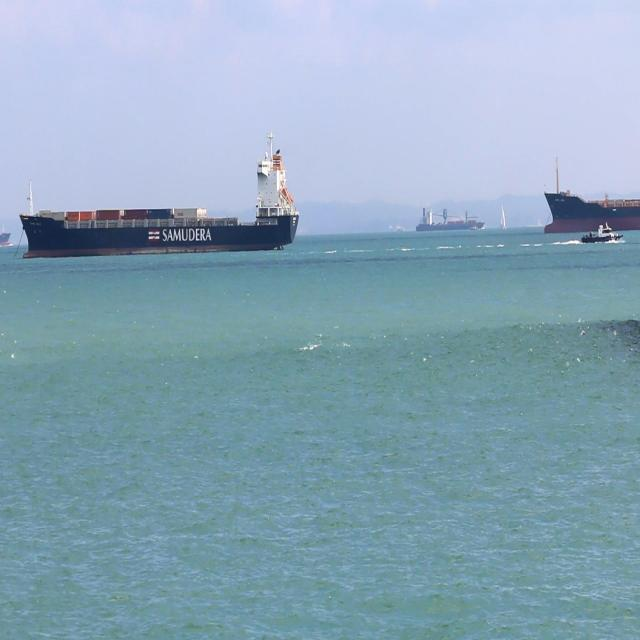CIV_Ship: (18, 130, 300, 259), (542, 155, 640, 234), (416, 205, 486, 232), (580, 223, 624, 246), (0, 229, 12, 249), (498, 204, 506, 230), (469, 223, 480, 231)
